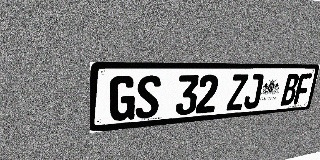2: (196, 74, 219, 114)
3: (175, 75, 200, 116)
B: (280, 73, 300, 106)
F: (293, 73, 312, 105)
G: (109, 76, 136, 122)
J: (243, 74, 264, 109)
S: (135, 75, 161, 119)
Z: (226, 74, 248, 111)
